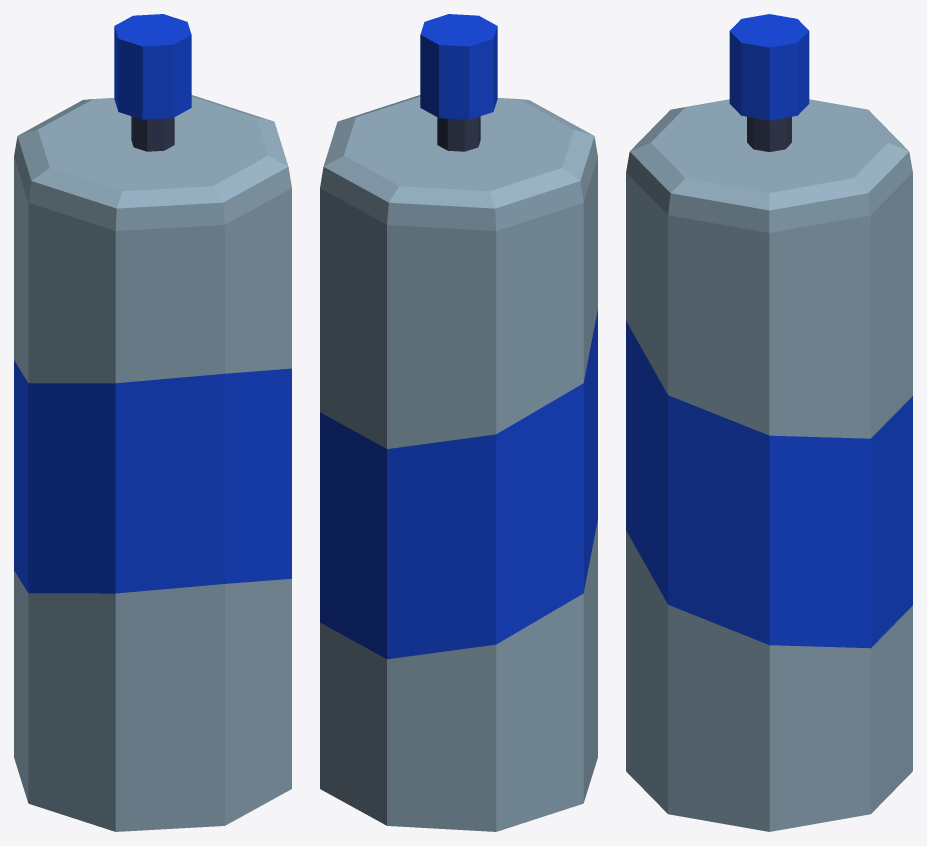
File: NoHumanSpray.fbx
3 views of the same model, side by side, from view 1: azimuth 30°, elevation 25°; view 2: azimuth 150°, elevation 25°; view 3: azimuth 270°, elevation 25° (orthographic).
Visible parts, largest first — view 1: NoHumanSpray; view 2: NoHumanSpray; view 3: NoHumanSpray.
Part boxes in pixels (bbox=[...]): NoHumanSpray: bbox=[14, 14, 291, 831]; NoHumanSpray: bbox=[320, 14, 597, 831]; NoHumanSpray: bbox=[626, 14, 912, 831].
Bounding box in the file's own units: 30.19 × 85.99 × 30.19.
